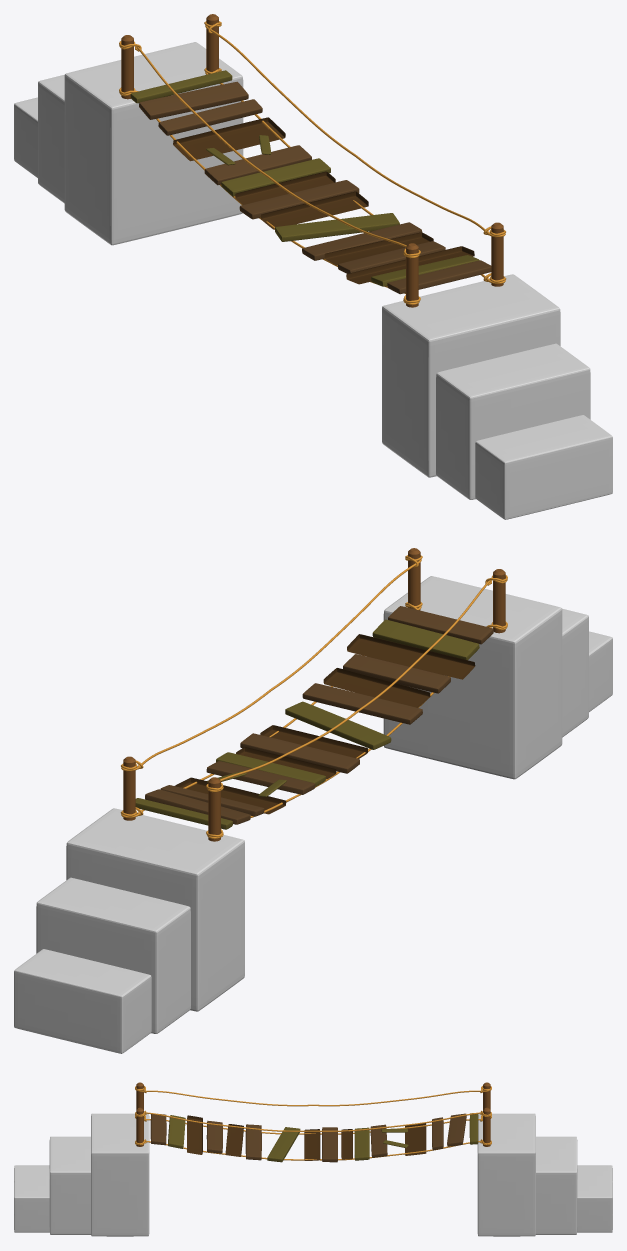
File: bridge.fbx
3 renders of one model, top to bottom at view 1: azimuth 30°, elevation 25°; view 2: azimuth 150°, elevation 25°; view 3: azimuth 270°, elevation 25°, orthographic. The views are drawn at different scales.
Parts seen in each view (by area): view 1: Cube, Cube.020, Cube.021, Cylinder, BézierCurve, Cube.014, Cube.017, Cube.008, Cube.009, Cube.013, Cube.010, Cube.016 (+10 smaller); view 2: Cube, Cube.020, Cube.021, Cylinder, Cube.003, BézierCurve, Cube.006, Cube.002, Cube.004, Cube.005, Cube.008, Cube.010 (+10 smaller); view 3: Cube, Cube.020, Cube.021, BézierCurve, Cylinder, BézierCurve.001, Cube.014, Cube.008, Cube.003, Cube.006, Cube.010, Cube.002 (+10 smaller).
Part boxes in pixels (x1,y1,x2,y2): Cube: (64, 42, 560, 477); Cube.020: (38, 74, 590, 499); Cube.021: (14, 97, 612, 519); Cylinder: (121, 14, 503, 307); BézierCurve: (119, 21, 505, 258); Cube.014: (173, 117, 285, 161); Cube.017: (139, 81, 248, 119); Cube.008: (275, 213, 399, 241); Cube.009: (260, 191, 368, 229); Cube.013: (204, 145, 311, 185); Cube.010: (239, 180, 359, 219); Cube.016: (158, 99, 262, 135); Cube: (66, 576, 562, 1011); Cube.020: (36, 608, 588, 1033); Cube.021: (14, 631, 612, 1053); Cylinder: (123, 548, 505, 841); Cube.003: (347, 634, 475, 679); BézierCurve: (121, 555, 507, 792); Cube.006: (302, 683, 422, 724); Cube.002: (372, 619, 479, 660); Cube.004: (343, 654, 450, 693); Cube.005: (323, 668, 430, 707); Cube.008: (285, 701, 391, 749); Cube.010: (240, 733, 359, 773); Cube: (91, 1113, 535, 1236); Cube.020: (49, 1136, 577, 1234); Cube.021: (14, 1165, 612, 1232); BézierCurve: (135, 1086, 491, 1131); Cylinder: (136, 1082, 490, 1146); BézierCurve.001: (135, 1115, 491, 1160); Cube.014: (405, 1123, 426, 1155); Cube.008: (267, 1127, 300, 1162); Cube.003: (187, 1115, 202, 1154); Cube.006: (245, 1124, 261, 1160); Cube.010: (322, 1127, 337, 1162); Cube.002: (168, 1115, 185, 1148).
Bounding box in the file's own units: 244 × 349 × 1561.
